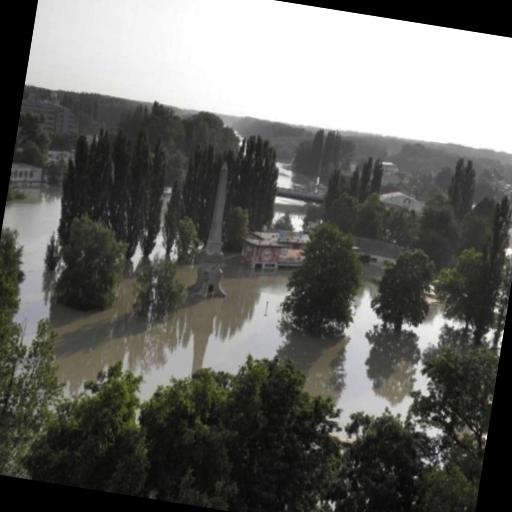flood: (2, 184, 447, 425), (273, 197, 308, 230), (277, 162, 298, 188)
house: (238, 222, 306, 274), (20, 96, 68, 122), (8, 161, 42, 185)
